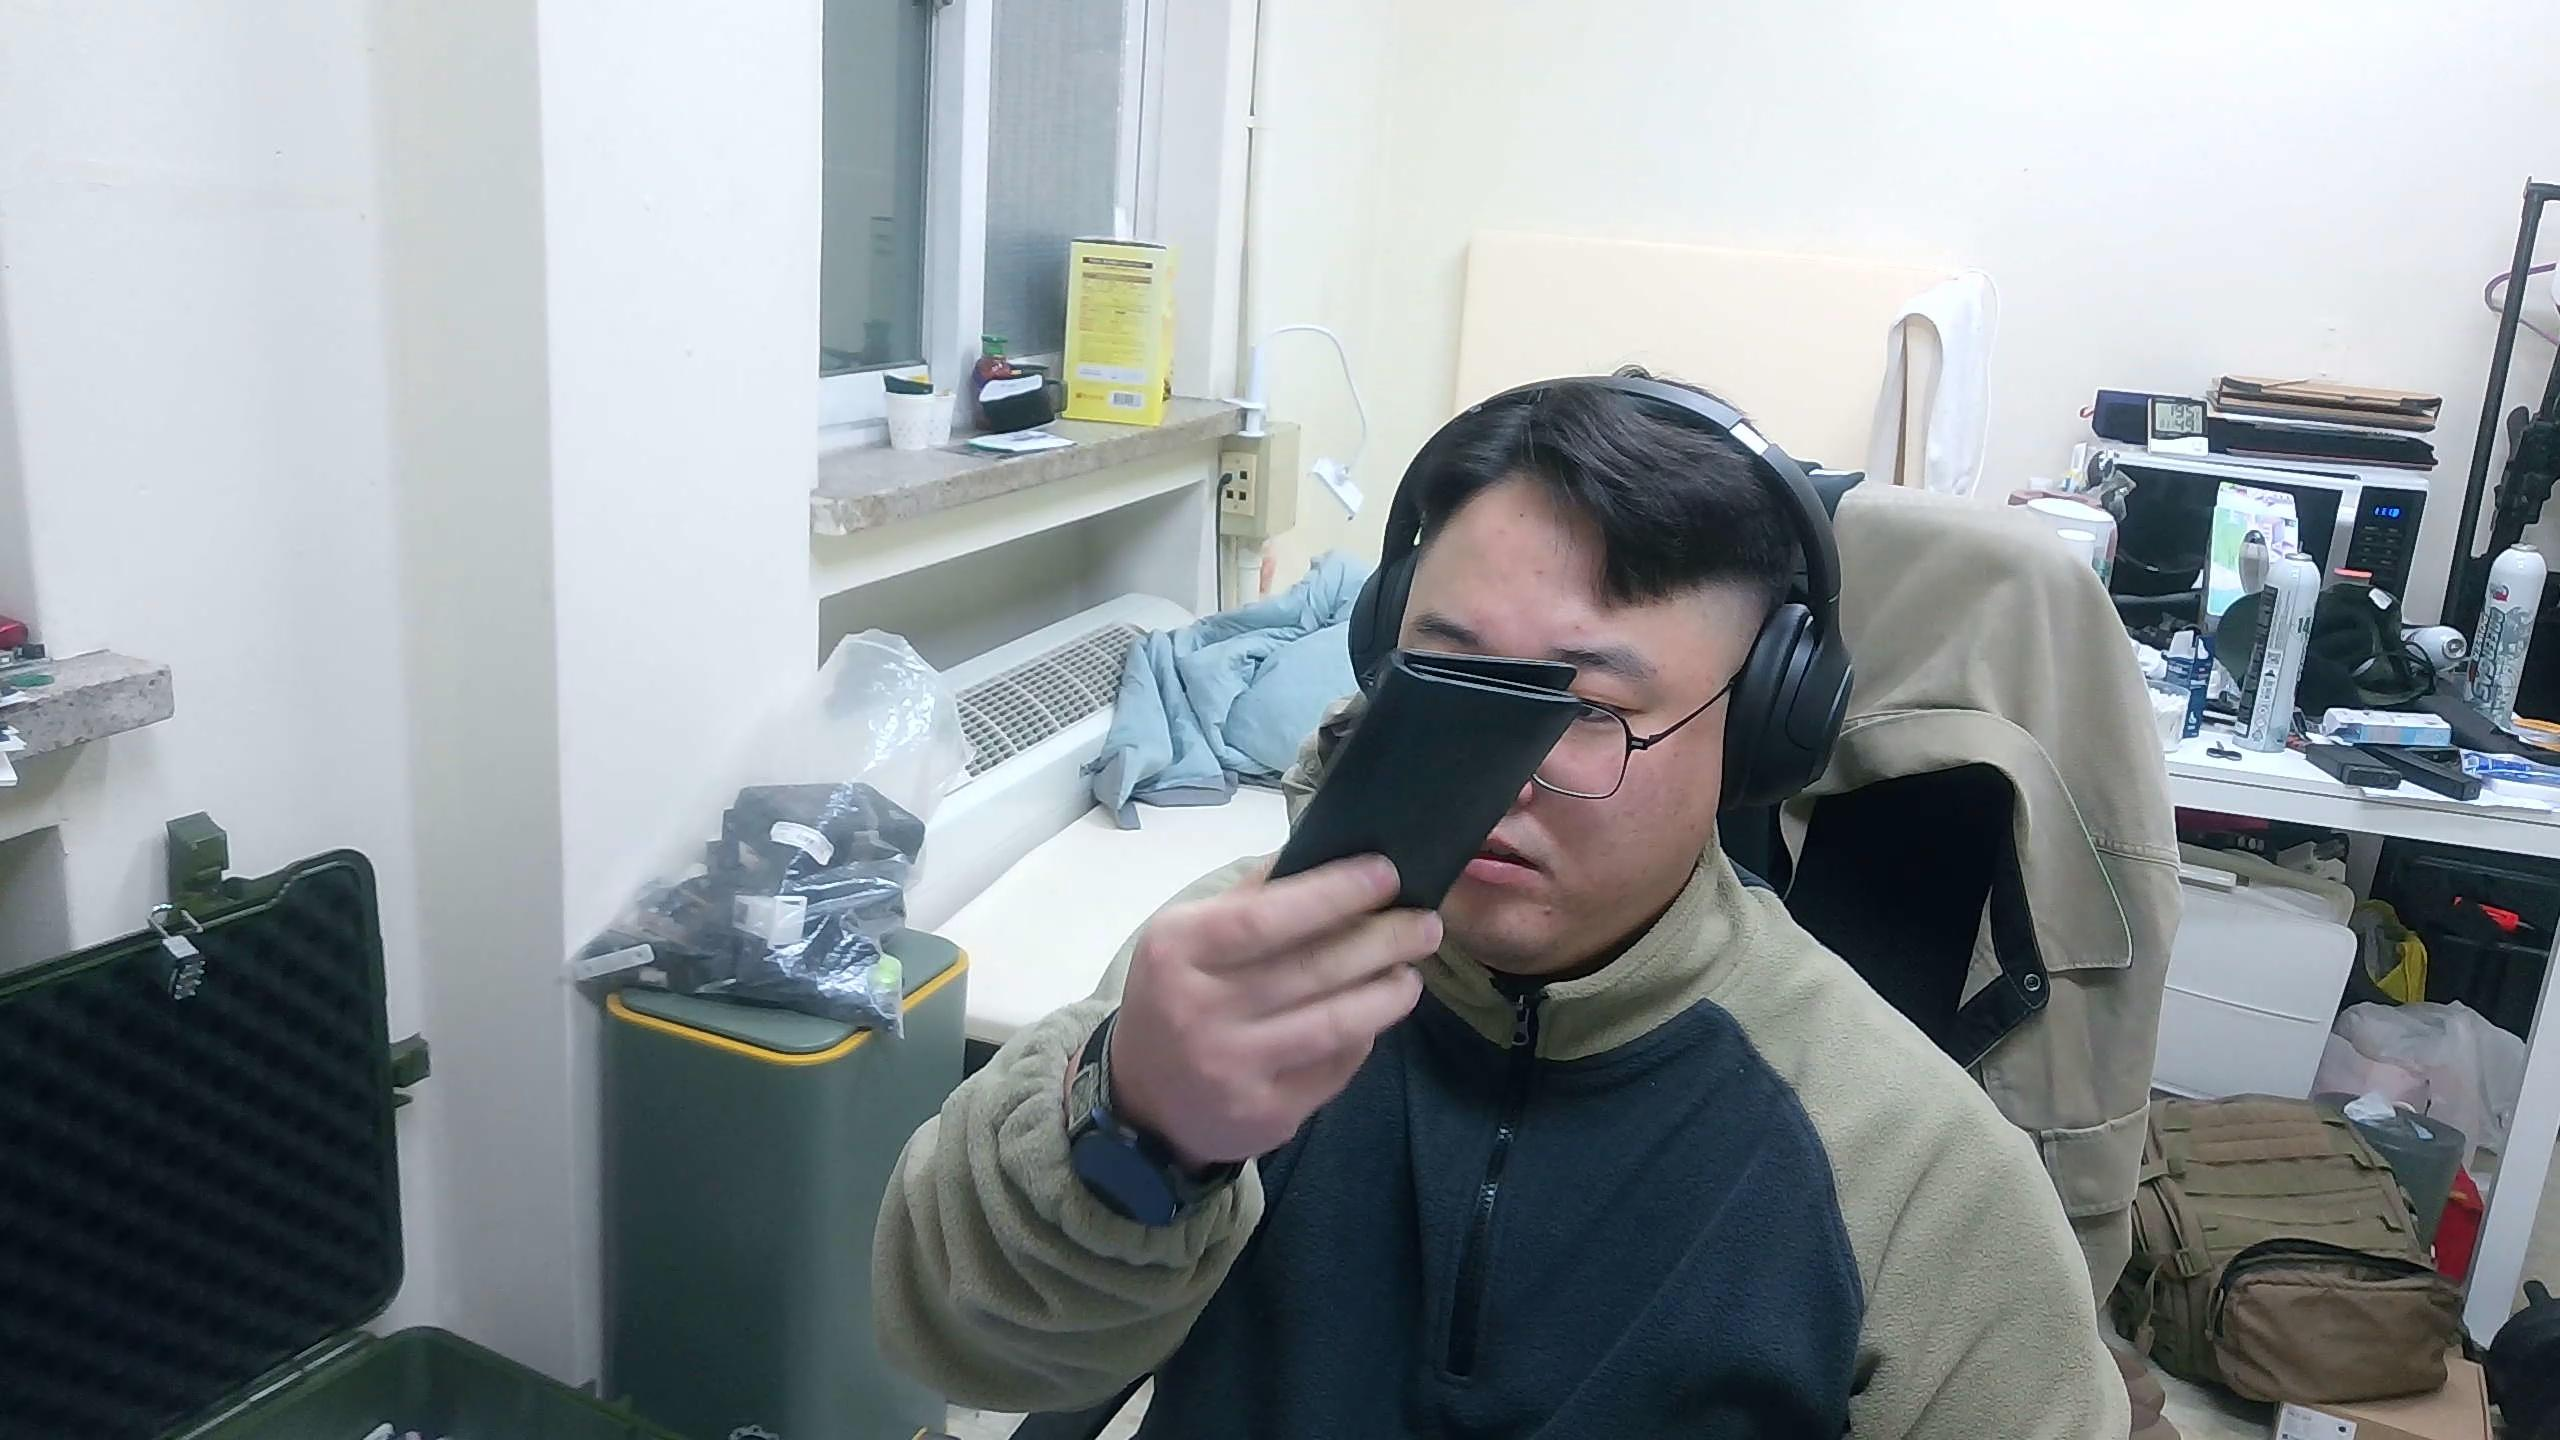Wallet: (1268, 645, 1586, 916)
